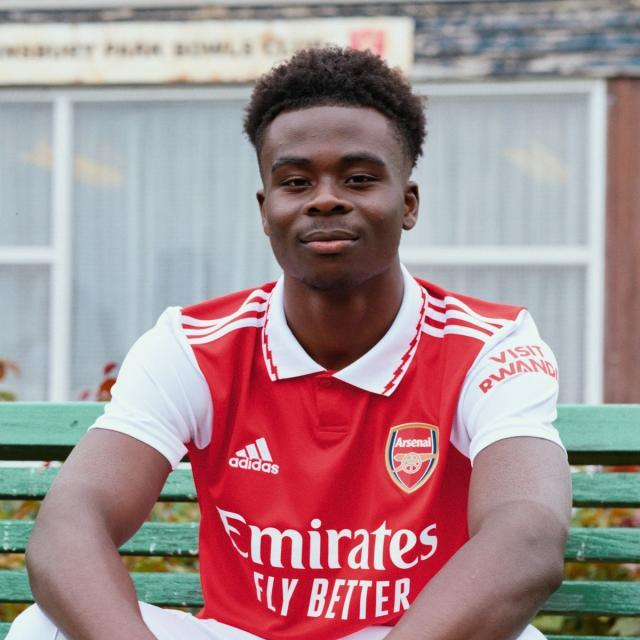Adidas: (228, 434, 283, 482)
Emirates: (211, 503, 440, 570)
